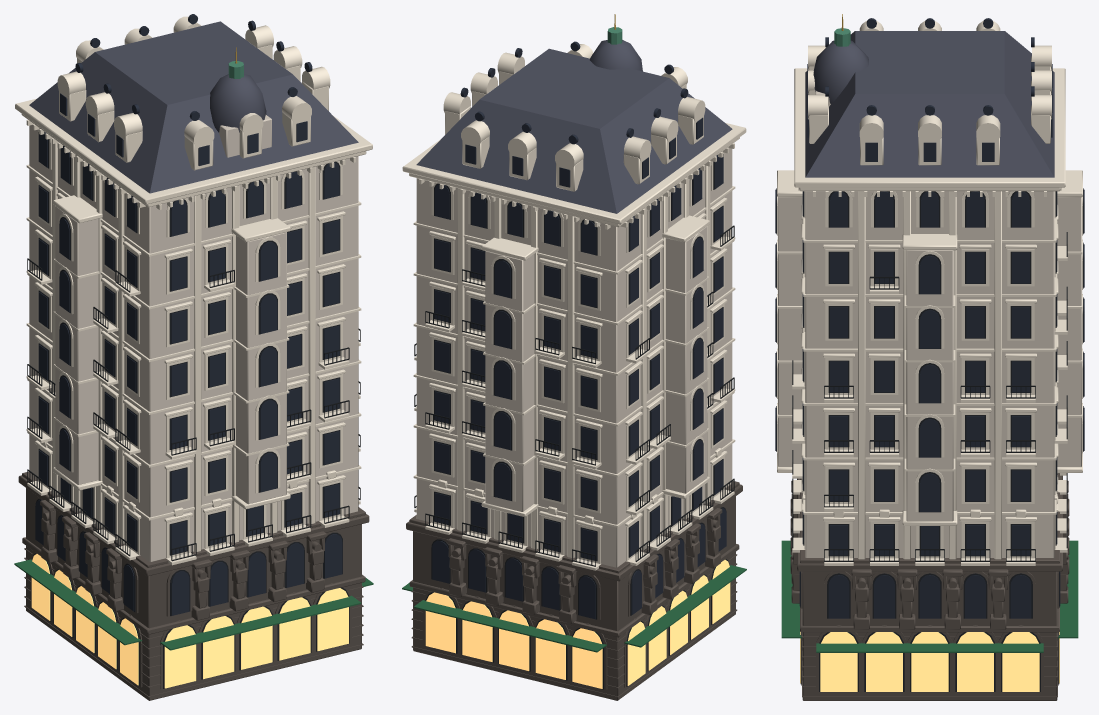
The model's file is building_pt_c.fbx.
3 views of the same model, side by side, from view 1: azimuth 30°, elevation 25°; view 2: azimuth 150°, elevation 25°; view 3: azimuth 270°, elevation 25° (orthographic). The views are drawn at different scales.
Visible parts, largest first — view 1: building_pt_c; view 2: building_pt_c; view 3: building_pt_c.
Boxes of the visible parts, x1,y1,x2,y2 form: building_pt_c: (14, 14, 373, 700); building_pt_c: (402, 14, 746, 700); building_pt_c: (775, 14, 1084, 700).
Bounding box in the file's own units: 16.98 × 38.4 × 16.98.
